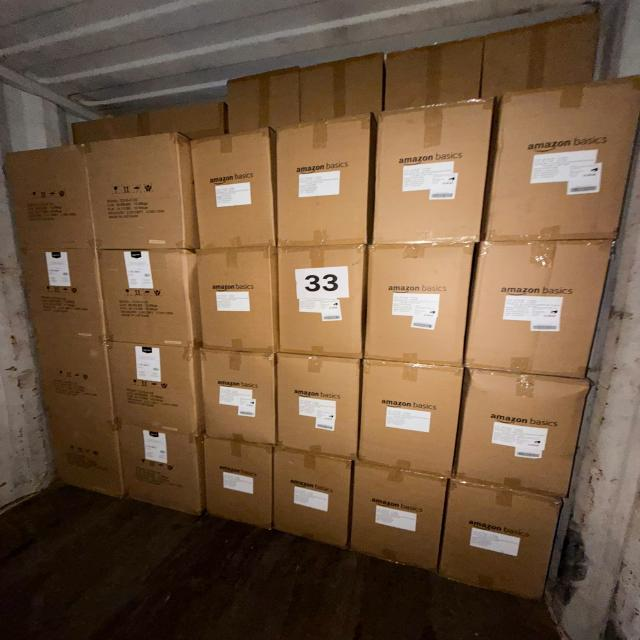Carton: (494, 84, 638, 241), (470, 240, 613, 376), (374, 103, 490, 244), (459, 370, 586, 497), (442, 481, 560, 602), (366, 242, 470, 368), (86, 131, 191, 248), (278, 122, 373, 250), (361, 358, 461, 478), (352, 460, 446, 574), (0, 145, 100, 249), (278, 245, 368, 358), (98, 248, 199, 346), (189, 136, 273, 250), (12, 248, 108, 344), (278, 350, 363, 457), (194, 247, 276, 355), (110, 345, 202, 437), (273, 448, 353, 551), (117, 424, 204, 518), (199, 347, 276, 443), (200, 438, 272, 533), (41, 418, 125, 499), (34, 339, 112, 425)
